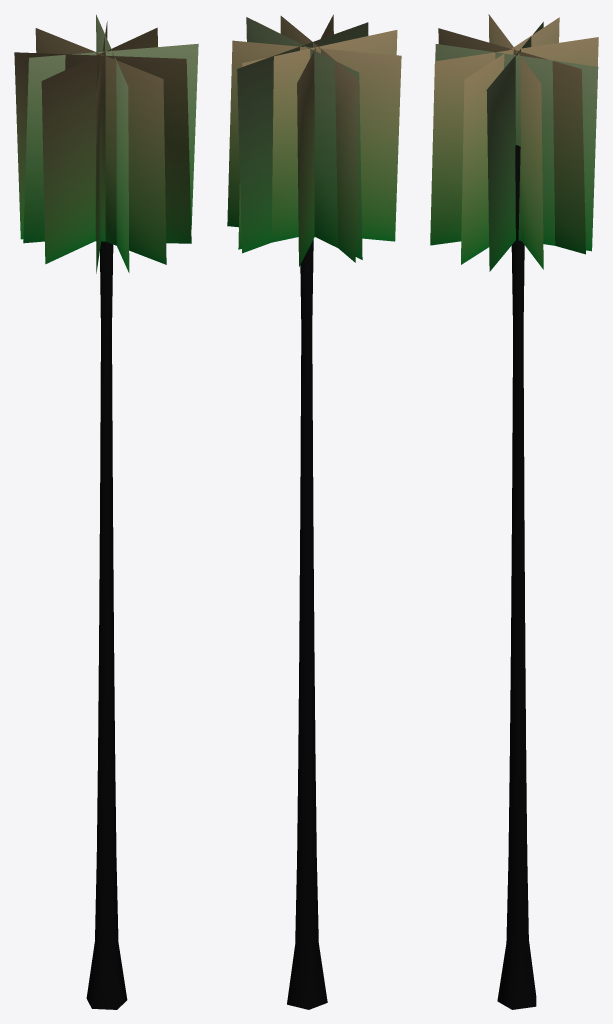
The model's file is Super_Palm_4.fbx.
The picture shows the model from 3 angles, left to right: view 1: azimuth 30°, elevation 25°; view 2: azimuth 150°, elevation 25°; view 3: azimuth 270°, elevation 25°; orthographic projection.
Visible parts, largest first — view 1: Tree_4; view 2: Tree_4; view 3: Tree_4.
Boxes of the visible parts, x1=… form: Tree_4: x1=14, y1=14, x2=198, y2=1009; Tree_4: x1=227, y1=14, x2=401, y2=1009; Tree_4: x1=430, y1=14, x2=598, y2=1009.
Bounding box in the file's own units: 522 × 3045 × 490.
